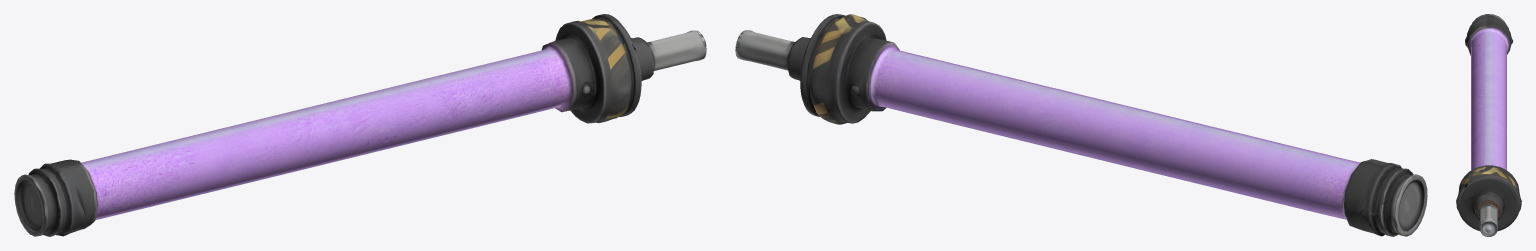
File: Meshy_AI_light_edgerotator_0108125459_texture.fbx
3 views of the same model, side by side, from view 1: azimuth 30°, elevation 25°; view 2: azimuth 150°, elevation 25°; view 3: azimuth 270°, elevation 25° (orthographic). The views are drawn at different scales.
Visible parts, largest first — view 1: Mesh0; view 2: Mesh0; view 3: Mesh0.
Boxes of the visible parts, left/top/right/bottom form: Mesh0: left=14, top=14, right=706, bottom=236; Mesh0: left=735, top=14, right=1427, bottom=236; Mesh0: left=1456, top=14, right=1521, bottom=236.
Size of the model in its own units: 191 by 26.93 by 26.98.
Materials: 1 (1 with a texture image).
